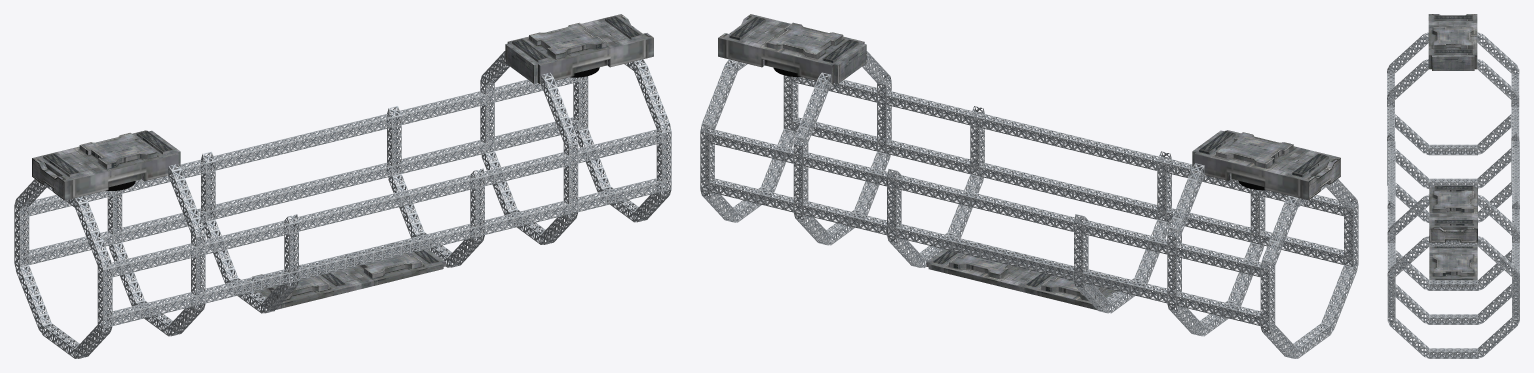
File: Shipyard.obj
3 views of the same model, side by side, from view 1: azimuth 30°, elevation 25°; view 2: azimuth 150°, elevation 25°; view 3: azimuth 270°, elevation 25° (orthographic). The views are drawn at different scales.
Visible parts, largest first — view 1: Mesh17 Group17 Model, Mesh24 Group24 Model, Mesh1 Group1 Model, Mesh3 Group3 Model, Mesh27 Group27 Model, Mesh2 Group2 Model, Mesh31 Group31 Model, Mesh8 Group8 Model, Mesh28 Group28 Model, Mesh9 Group9 Model, Mesh4 Group4 Model, Mesh16 Group16 Model (+17 smaller); view 2: Mesh17 Group17 Model, Mesh24 Group24 Model, Mesh1 Group1 Model, Mesh3 Group3 Model, Mesh27 Group27 Model, Mesh2 Group2 Model, Mesh31 Group31 Model, Mesh4 Group4 Model, Mesh8 Group8 Model, Mesh9 Group9 Model, Mesh28 Group28 Model, Mesh7 Group7 Model (+17 smaller); view 3: Mesh3 Group3 Model, Mesh17 Group17 Model, Mesh24 Group24 Model, Mesh1 Group1 Model, Mesh2 Group2 Model, Mesh30 Group30 Model, Mesh29 Group29 Model, Mesh18 Group18 Model, Mesh27 Group27 Model, Mesh26 Group26 Model, Mesh31 Group31 Model, Mesh32 Group32 Model (+6 smaller).
Boxes of the visible parts, <box> form: Mesh17 Group17 Model: <box>32,130,180,200</box>; Mesh24 Group24 Model: <box>505,14,653,84</box>; Mesh1 Group1 Model: <box>14,179,112,358</box>; Mesh3 Group3 Model: <box>573,59,671,222</box>; Mesh27 Group27 Model: <box>201,151,298,313</box>; Mesh2 Group2 Model: <box>387,106,484,267</box>; Mesh31 Group31 Model: <box>239,240,445,309</box>; Mesh8 Group8 Model: <box>210,114,392,170</box>; Mesh28 Group28 Model: <box>210,162,392,219</box>; Mesh9 Group9 Model: <box>293,223,475,280</box>; Mesh4 Group4 Model: <box>293,175,475,231</box>; Mesh16 Group16 Model: <box>107,220,289,277</box>; Mesh17 Group17 Model: <box>1192,130,1340,200</box>; Mesh24 Group24 Model: <box>718,14,866,84</box>; Mesh1 Group1 Model: <box>1260,179,1358,358</box>; Mesh3 Group3 Model: <box>700,59,798,222</box>; Mesh27 Group27 Model: <box>1074,151,1171,313</box>; Mesh2 Group2 Model: <box>887,106,984,267</box>; Mesh31 Group31 Model: <box>926,241,1133,310</box>; Mesh4 Group4 Model: <box>979,114,1161,170</box>; Mesh8 Group8 Model: <box>896,175,1078,231</box>; Mesh9 Group9 Model: <box>979,163,1161,219</box>; Mesh28 Group28 Model: <box>896,224,1078,280</box>; Mesh7 Group7 Model: <box>709,129,892,186</box>; Mesh3 Group3 Model: <box>1387,236,1519,358</box>; Mesh17 Group17 Model: <box>1428,14,1477,70</box>; Mesh24 Group24 Model: <box>1429,185,1477,242</box>; Mesh1 Group1 Model: <box>1387,32,1519,155</box>; Mesh2 Group2 Model: <box>1387,201,1519,290</box>; Mesh30 Group30 Model: <box>1395,284,1511,324</box>; Mesh29 Group29 Model: <box>1395,148,1511,188</box>; Mesh18 Group18 Model: <box>1387,58,1519,100</box>; Mesh27 Group27 Model: <box>1387,133,1519,222</box>; Mesh26 Group26 Model: <box>1387,194,1519,235</box>; Mesh31 Group31 Model: <box>1429,241,1477,287</box>; Mesh32 Group32 Model: <box>1433,254,1474,275</box>.
Bounding box in the file's own units: 632 × 189 × 165.
Materials: 4 (3 with a texture image).
